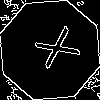X: (25, 25, 81, 76)
